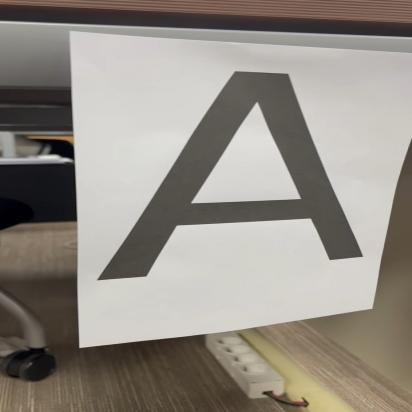seat: (100, 62, 374, 284)
